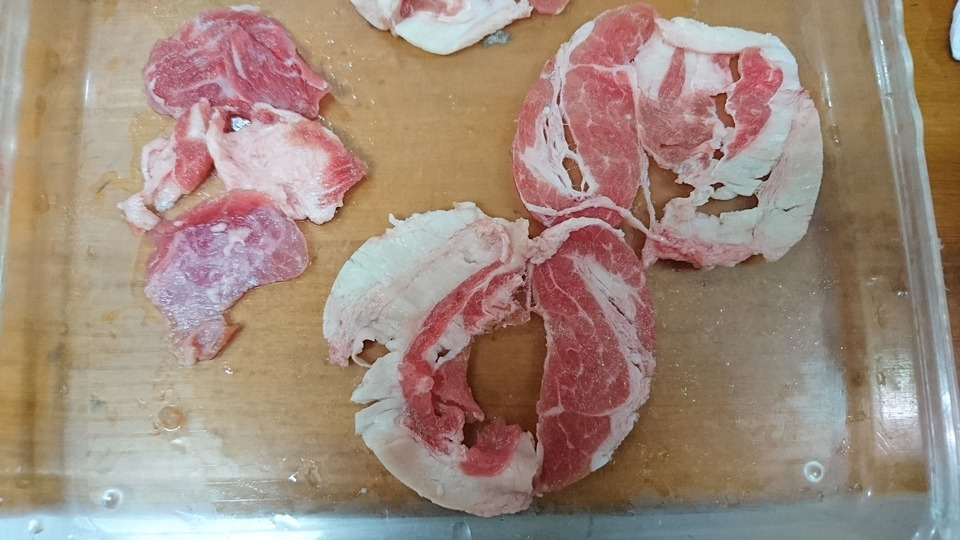restructured meat: (324, 201, 657, 520), (504, 1, 832, 276), (133, 1, 335, 361)
